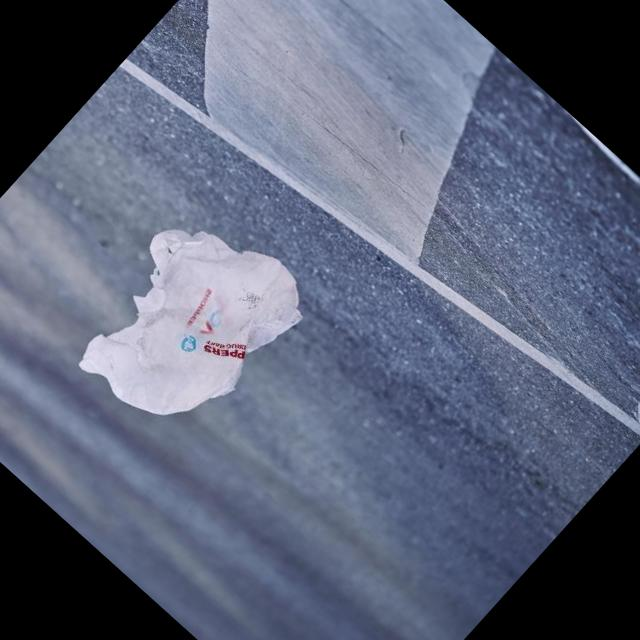KantongPlastik: (52, 186, 321, 458)
